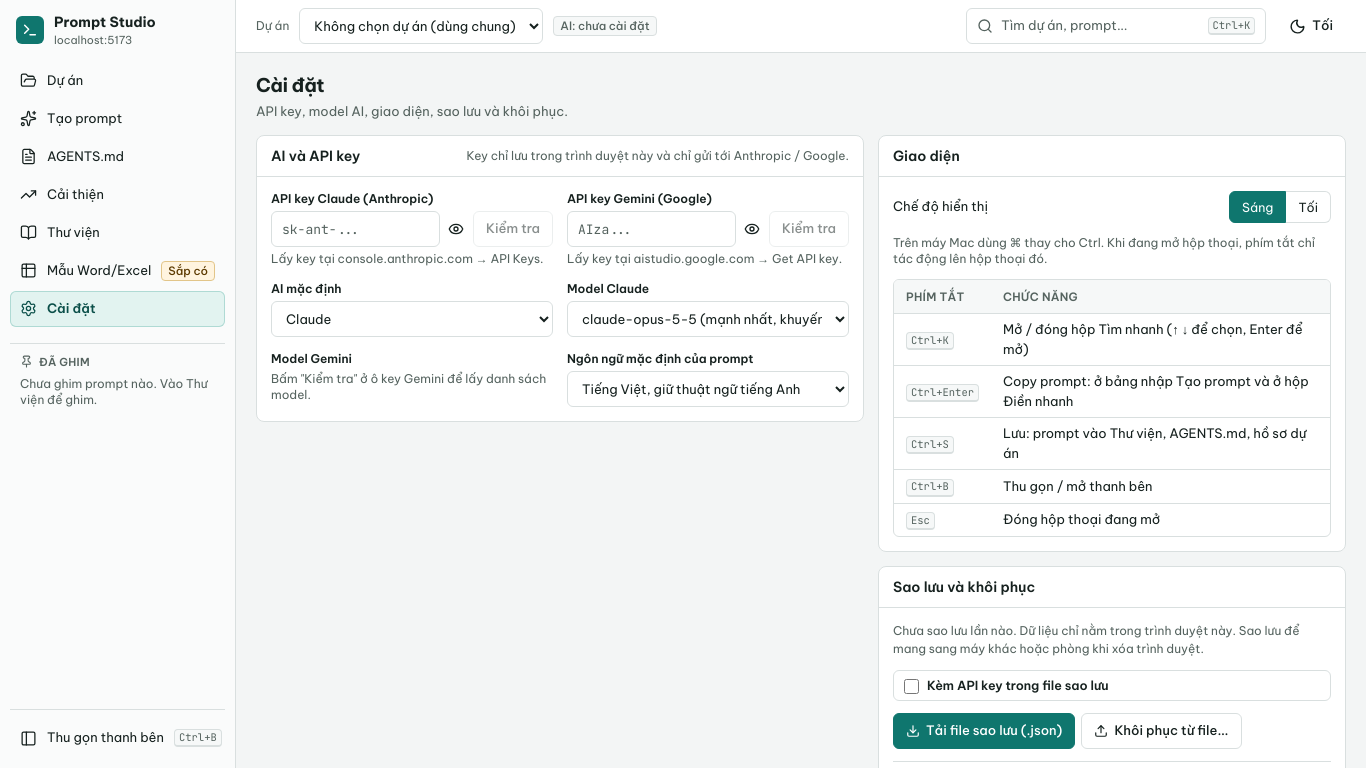
Test: Tìm nhanh (Ctrl+K) › bấm ô tìm trên header cũng mở; mũi tên chọn dự án rồi Enter
Later steps or results of the test are not shown.
Click the button with aria-label "Mở hộp Tìm nhanh (Ctrl+K)": (1116, 26) [966,8,1266,44]
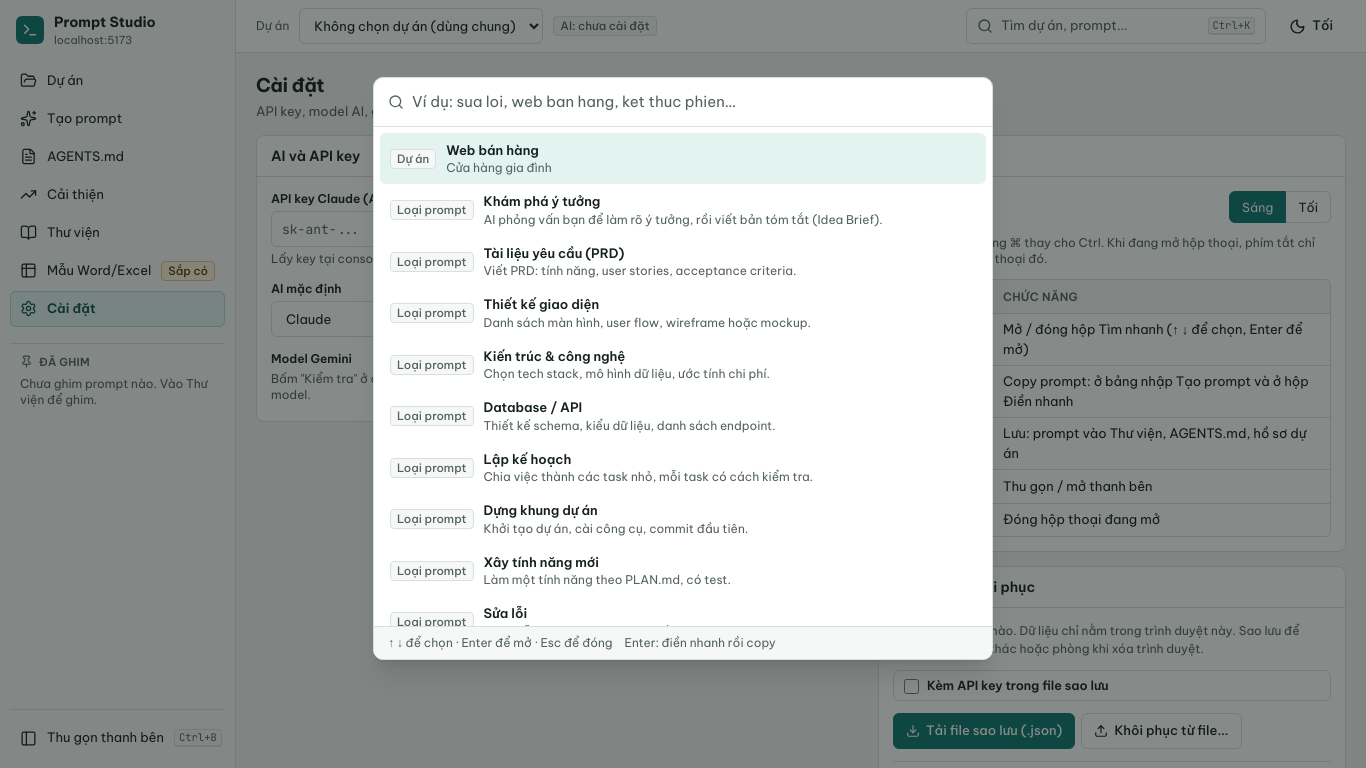
In the dropdown named "Từ khóa tìm kiếm": (695, 102) [412,78,978,126], type "gia dinh"
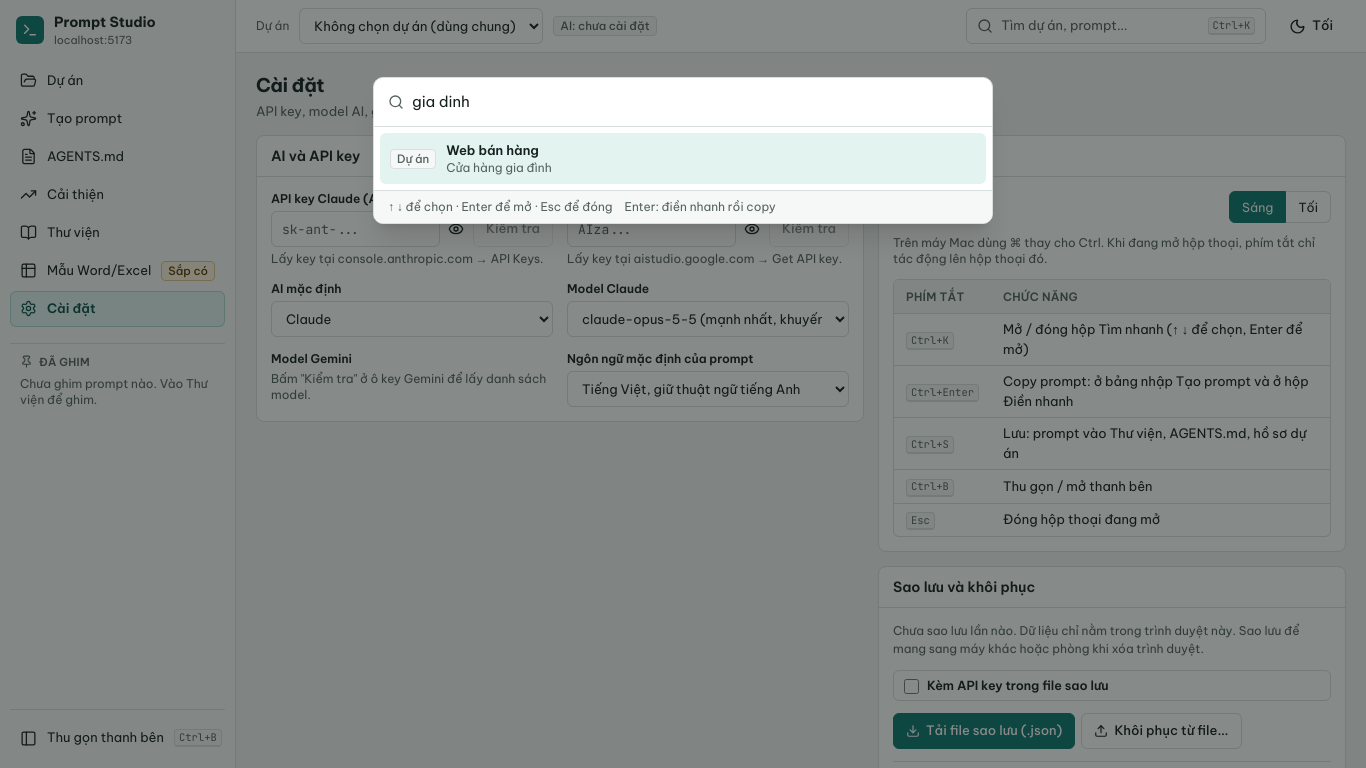
Now the option shows "Web bán hàng", box [380,133,986,184]
